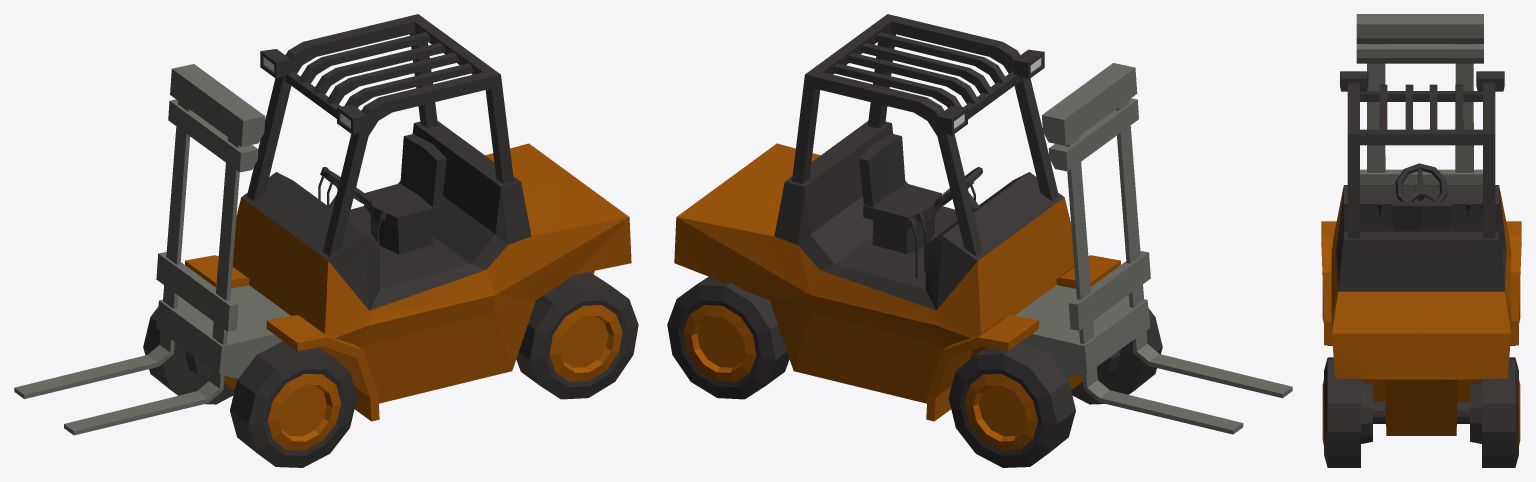
Rendered from ForkTruck.fbx.
3 views of the same model, side by side, from view 1: azimuth 30°, elevation 25°; view 2: azimuth 150°, elevation 25°; view 3: azimuth 270°, elevation 25° (orthographic). The views are drawn at different scales.
Parts seen in each view (by area): view 1: ForkTruck; view 2: ForkTruck; view 3: ForkTruck.
Part boxes in pixels (x1,y1,x2,y2): ForkTruck: (14, 14, 638, 467); ForkTruck: (667, 14, 1292, 467); ForkTruck: (1321, 14, 1521, 467).
Bounding box in the file's own units: 5.04 × 3.07 × 1.81.
